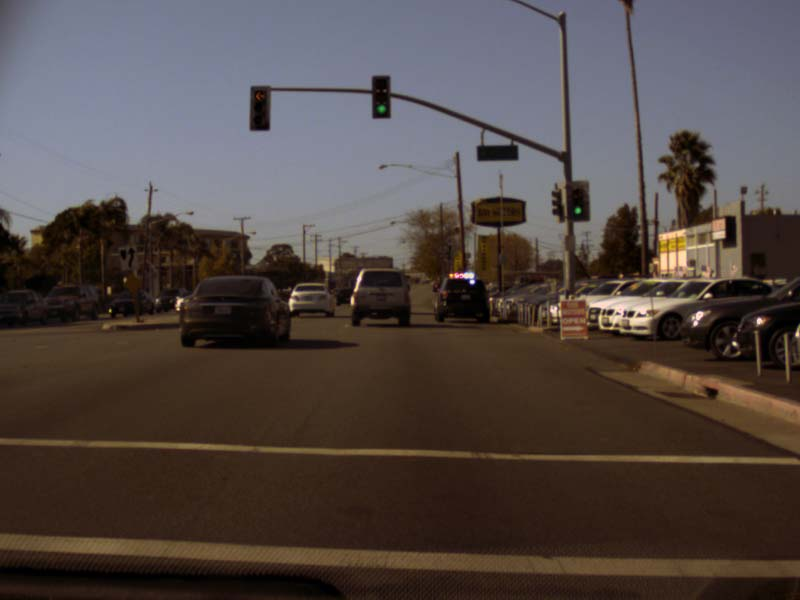Green: (567, 180, 588, 222), (370, 75, 389, 118)
Red: (249, 85, 270, 129)
